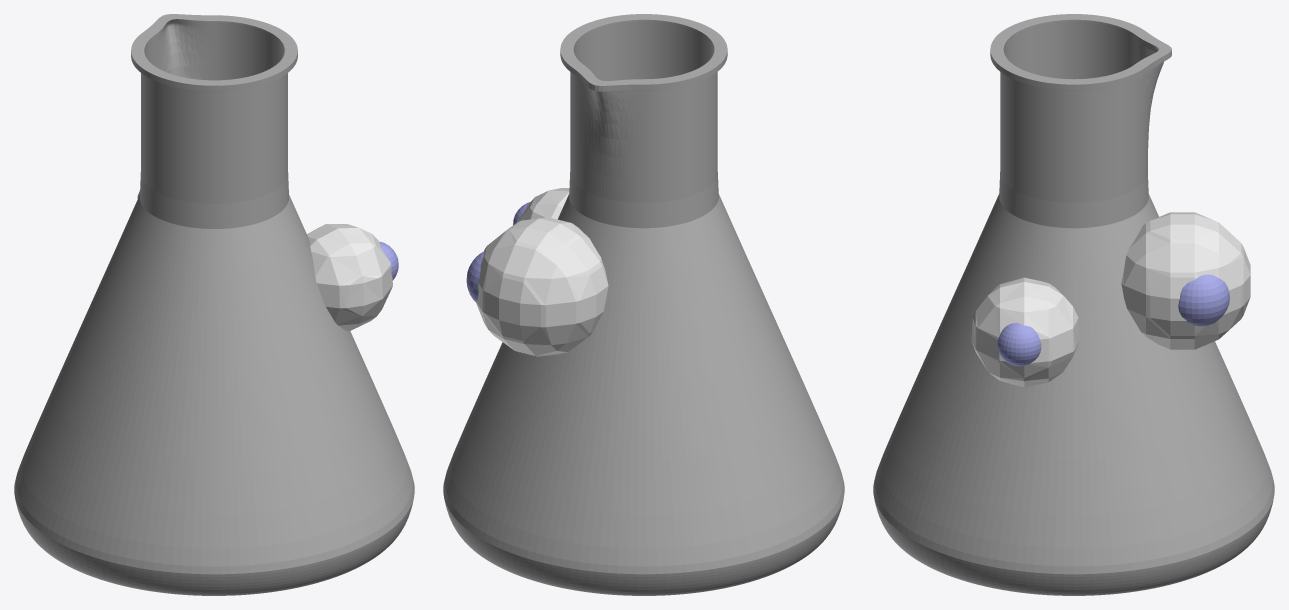
Rendered from crickey.fbx.
3 views of the same model, side by side, from view 1: azimuth 30°, elevation 25°; view 2: azimuth 150°, elevation 25°; view 3: azimuth 270°, elevation 25° (orthographic).
Parts seen in each view (by area): view 1: Erlenmeyer1, Mball; view 2: Erlenmeyer1, Mball; view 3: Erlenmeyer1, Mball, Sphere.002, Sphere.
Boxes of the visible parts, x1=… form: Erlenmeyer1: x1=14, y1=14, x2=414, y2=595; Mball: x1=137, y1=191, x2=392, y2=330; Erlenmeyer1: x1=443, y1=14, x2=844, y2=595; Mball: x1=476, y1=188, x2=608, y2=356; Erlenmeyer1: x1=873, y1=14, x2=1274, y2=595; Mball: x1=971, y1=212, x2=1250, y2=387; Sphere.002: x1=1178, y1=274, x2=1229, y2=326; Sphere: x1=997, y1=323, x2=1041, y2=366.
Size of the model in its own units: 224 by 289 by 224.
